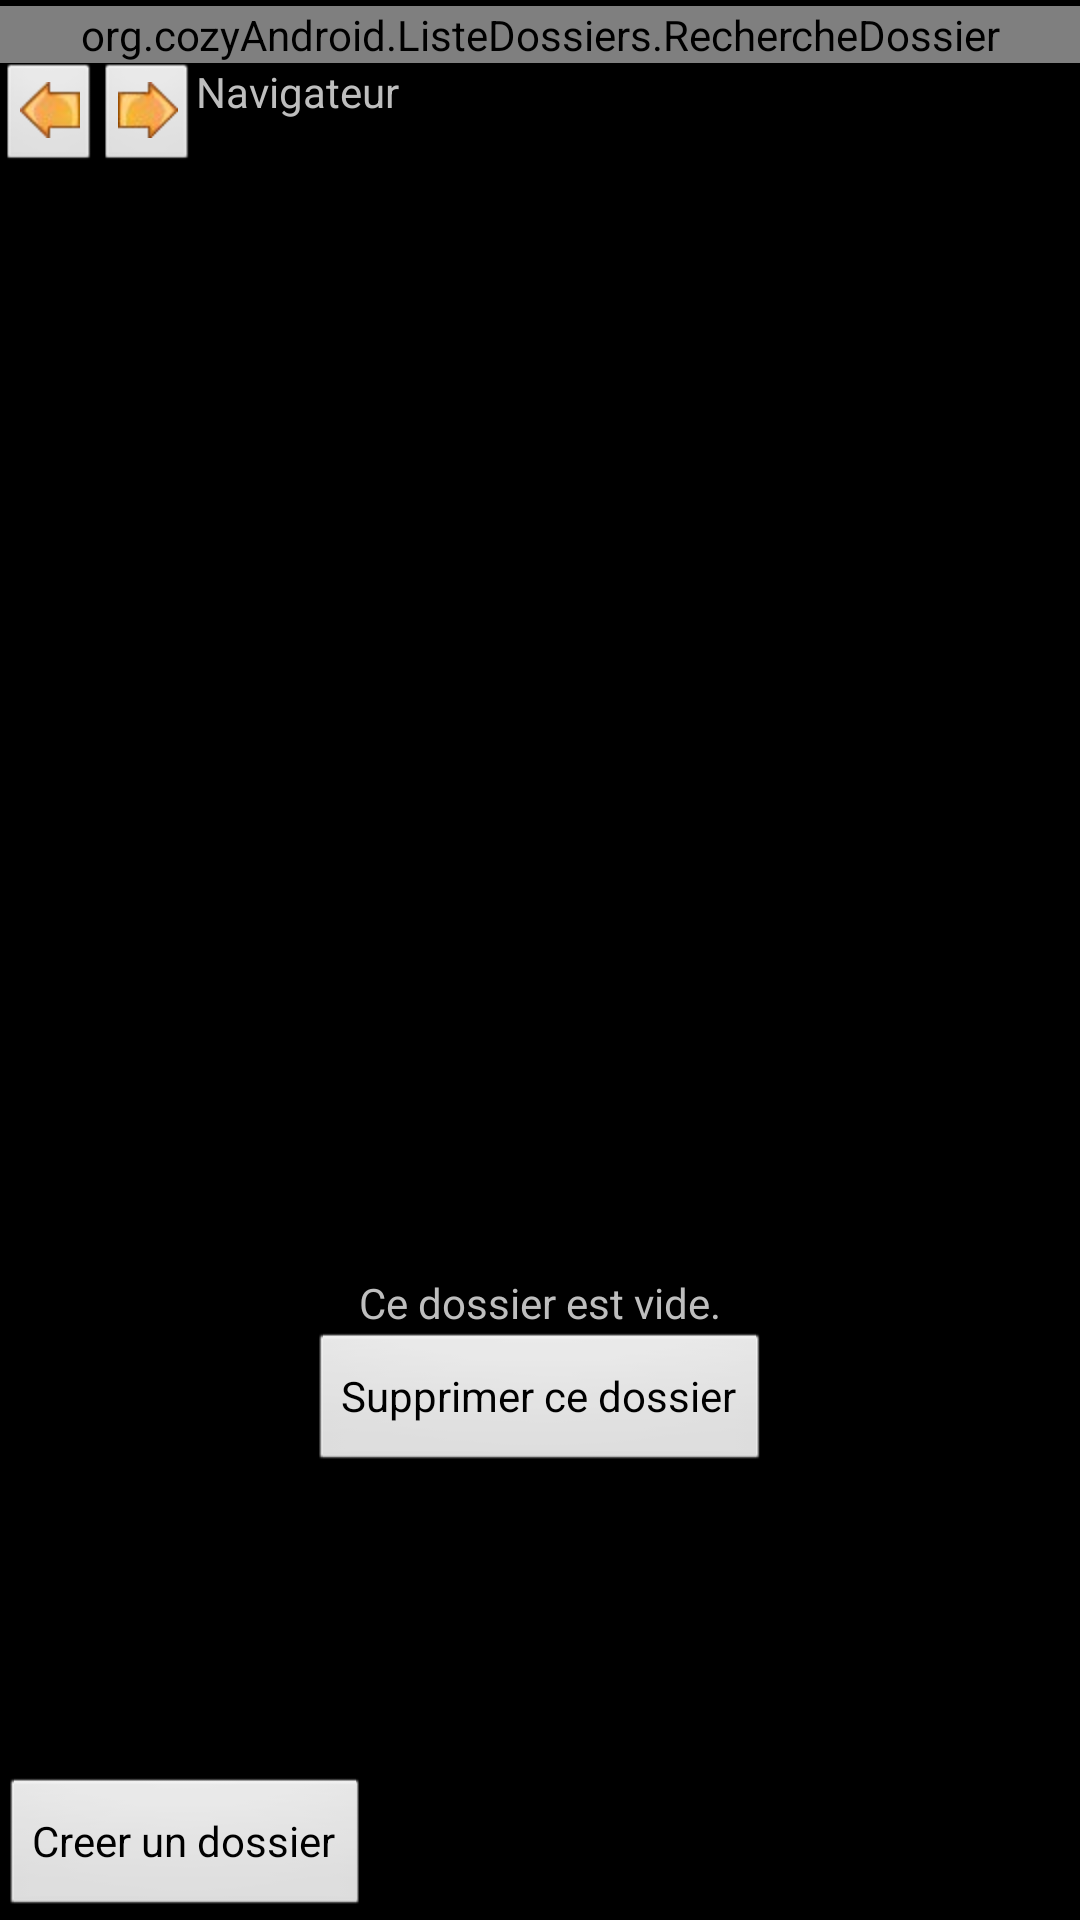

Screen size 1080 × 1920. Icon name, then its center in pixels as (x,y):
arrow left: (48,111)
arrow right: (146,111)
